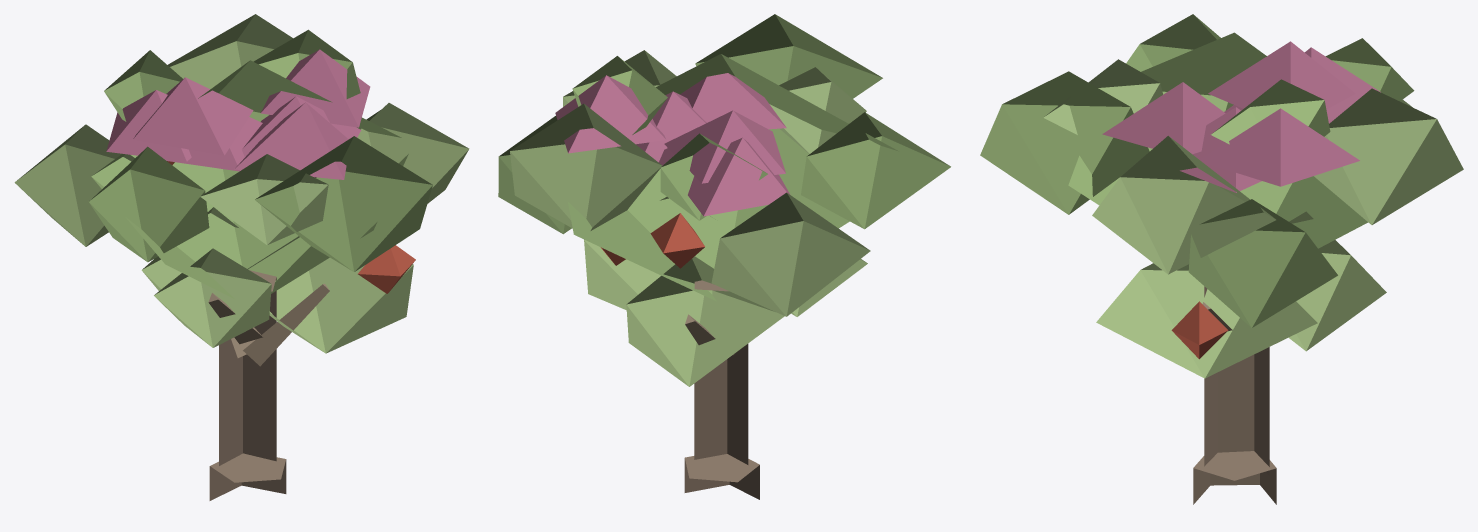
The model's file is tree.temp.oak__bloom.glb.
3 renders of one model, left to right at view 1: azimuth 30°, elevation 25°; view 2: azimuth 150°, elevation 25°; view 3: azimuth 270°, elevation 25°, orthographic. The views are drawn at different scales.
Parts seen in each view (by area): view 1: tree.temp.oak__bloom; view 2: tree.temp.oak__bloom; view 3: tree.temp.oak__bloom.
Boxes of the visible parts, x1=… form: tree.temp.oak__bloom: x1=14, y1=14, x2=469, y2=500; tree.temp.oak__bloom: x1=498, y1=14, x2=950, y2=499; tree.temp.oak__bloom: x1=980, y1=14, x2=1463, y2=504.
Size of the model in its own units: 12.19 by 13.09 by 12.29.
